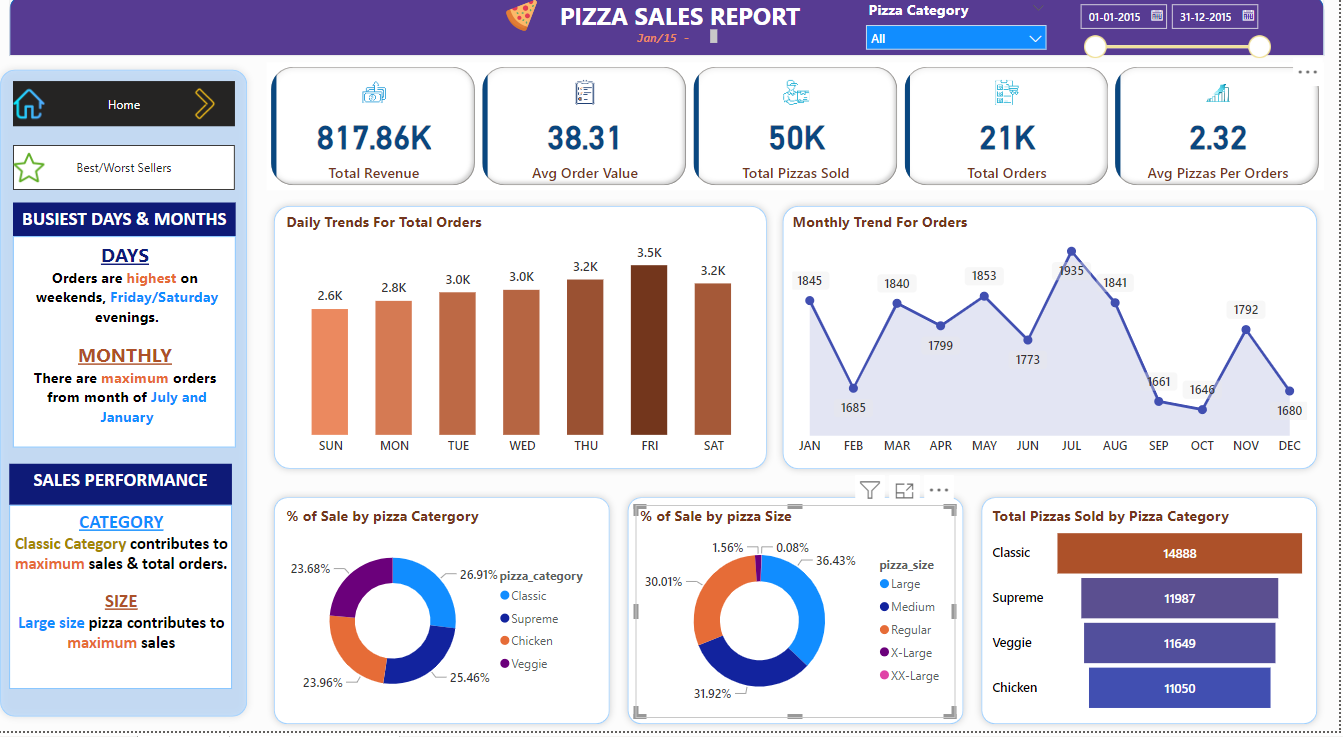

Layout of this report page (visuals, bound fields, positions):
{"tool":"powerbi","page":{"name":"Home","canvas":[1500,820],"ordinal":0},"visuals":[{"type":"cardVisual","fields":{"Data":["pizza_sales.Total Revenue","pizza_sales.Avg Order Value","pizza_sales.Total Pizzas Sold","pizza_sales.Total Orders","pizza_sales.Avg Pizzas Per Orders"]},"box":[304.9,75.2,1177.8,142],"z":0},{"type":"shape","box":[18.1,0,1464.6,68.2],"z":1000},{"type":"textbox","box":[618.1,0,293.8,48.7],"z":2000},{"type":"textbox","box":[689.1,33.4,122.5,30.6],"z":3000},{"type":"image","box":[561.1,0,55.7,45.9],"z":4000},{"type":"shape","box":[305,227.5,565,308.8],"z":5000},{"type":"columnChart","title":"Daily Trends For Total Orders","fields":{"Category":["pizza_sales.Order Day"],"Y":["pizza_sales.Total Orders"]},"box":[321.2,241.2,536.2,281.2],"z":6000},{"type":"shape","box":[871.5,226.9,611.2,309.1],"z":7000},{"type":"areaChart","title":" Monthly Trend For Orders","fields":{"Y":["pizza_sales.Total Orders"],"Category":["pizza_sales.Order Month"]},"box":[885.4,240.8,583.3,281.2],"z":8000},{"type":"shape","box":[305,551.2,390,268.8],"z":9000},{"type":"shape","box":[698.8,551.2,390,268.8],"z":10000},{"type":"shape","box":[1092.5,551.2,390,268.8],"z":11000},{"type":"donutChart","title":"% of Sale by pizza Catergory","fields":{"Category":["pizza_sales.pizza_category"],"Y":["pizza_sales.Total Revenue"]},"box":[321.6,567.8,356.4,236.7],"z":12000},{"type":"shape","box":[0,75.2,291,736.5],"z":13000},{"type":"donutChart","title":"% of Sale by pizza Size","fields":{"Category":["pizza_sales.pizza_size"],"Y":["pizza_sales.Total Orders"]},"box":[715.2,567.8,356.4,236.7],"z":14000},{"type":"textbox","box":[22.3,231.1,247.8,37.6],"z":15000},{"type":"funnel","title":"Total Pizzas Sold by Pizza Category","fields":{"Category":["pizza_sales.pizza_category"],"Y":["pizza_sales.Total Pizzas Sold"]},"box":[1108.8,568,360,236.2],"z":16000},{"type":"textbox","box":[22.3,268.7,247.8,235.3],"z":17000},{"type":"textbox","box":[18.1,522.1,247.8,45.9],"z":18000},{"type":"textbox","box":[18.1,568,247.8,204.7],"z":19000},{"type":"slicer","fields":{"Values":["pizza_sales.pizza_category"]},"box":[962,0,221.4,68.2],"z":20000},{"type":"slicer","fields":{"Values":["pizza_sales.order_date"]},"box":[1198.7,0,232.5,75.2],"z":21000},{"type":"pageNavigator","box":[22.3,96.1,247.8,50.1],"z":22000},{"type":"pageNavigator","box":[22.3,167.1,247.8,50.1],"z":23000},{"type":"image","box":[18.1,96.1,44.6,50.1],"z":24000},{"type":"image","box":[18.1,167.1,44.6,50.1],"z":25000},{"type":"image","box":[211.6,96.1,48.7,50.1],"z":26000}]}

Visuals, with their boxes in screenshot pixels (x1, y1, x2, y2), scaled from the page's 1500x820 canvas onto the 1343x737 screenshot:
cardVisual - pizza_sales.Total Revenue x pizza_sales.Avg Order Value: <region>273, 68, 1328, 195</region>
shape: <region>16, 0, 1328, 61</region>
textbox: <region>553, 0, 816, 44</region>
textbox: <region>617, 30, 727, 58</region>
image: <region>502, 0, 552, 41</region>
shape: <region>273, 204, 779, 482</region>
"Daily Trends For Total Orders" columnChart: <region>288, 217, 768, 470</region>
shape: <region>780, 204, 1328, 482</region>
" Monthly Trend For Orders" areaChart: <region>793, 216, 1315, 469</region>
shape: <region>273, 495, 622, 736</region>
shape: <region>626, 495, 975, 736</region>
shape: <region>978, 495, 1327, 736</region>
"% of Sale by pizza Catergory" donutChart: <region>288, 510, 607, 723</region>
shape: <region>0, 68, 261, 730</region>
"% of Sale by pizza Size" donutChart: <region>640, 510, 959, 723</region>
textbox: <region>20, 208, 242, 242</region>
"Total Pizzas Sold by Pizza Category" funnel: <region>993, 511, 1315, 723</region>
textbox: <region>20, 242, 242, 453</region>
textbox: <region>16, 469, 238, 511</region>
textbox: <region>16, 511, 238, 694</region>
slicer - pizza_sales.pizza_category: <region>861, 0, 1060, 61</region>
slicer - pizza_sales.order_date: <region>1073, 0, 1281, 68</region>
pageNavigator: <region>20, 86, 242, 131</region>
pageNavigator: <region>20, 150, 242, 195</region>
image: <region>16, 86, 56, 131</region>
image: <region>16, 150, 56, 195</region>
image: <region>189, 86, 233, 131</region>
